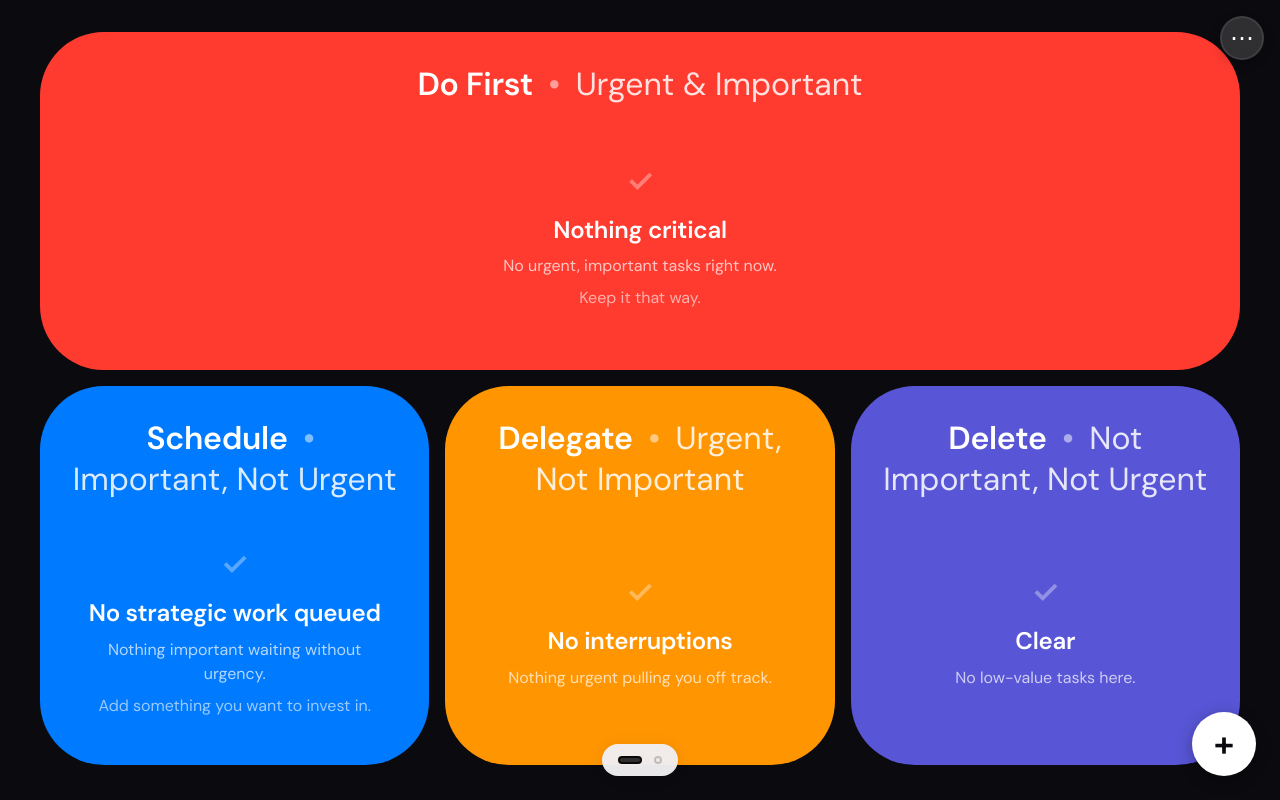
Task Creation Overlay Integration › should default frequency to medium for Q2 tasks
Step 1. Click the button named "add new task" → click(1224, 744), box x1=1192 y1=712 x2=1256 y2=776
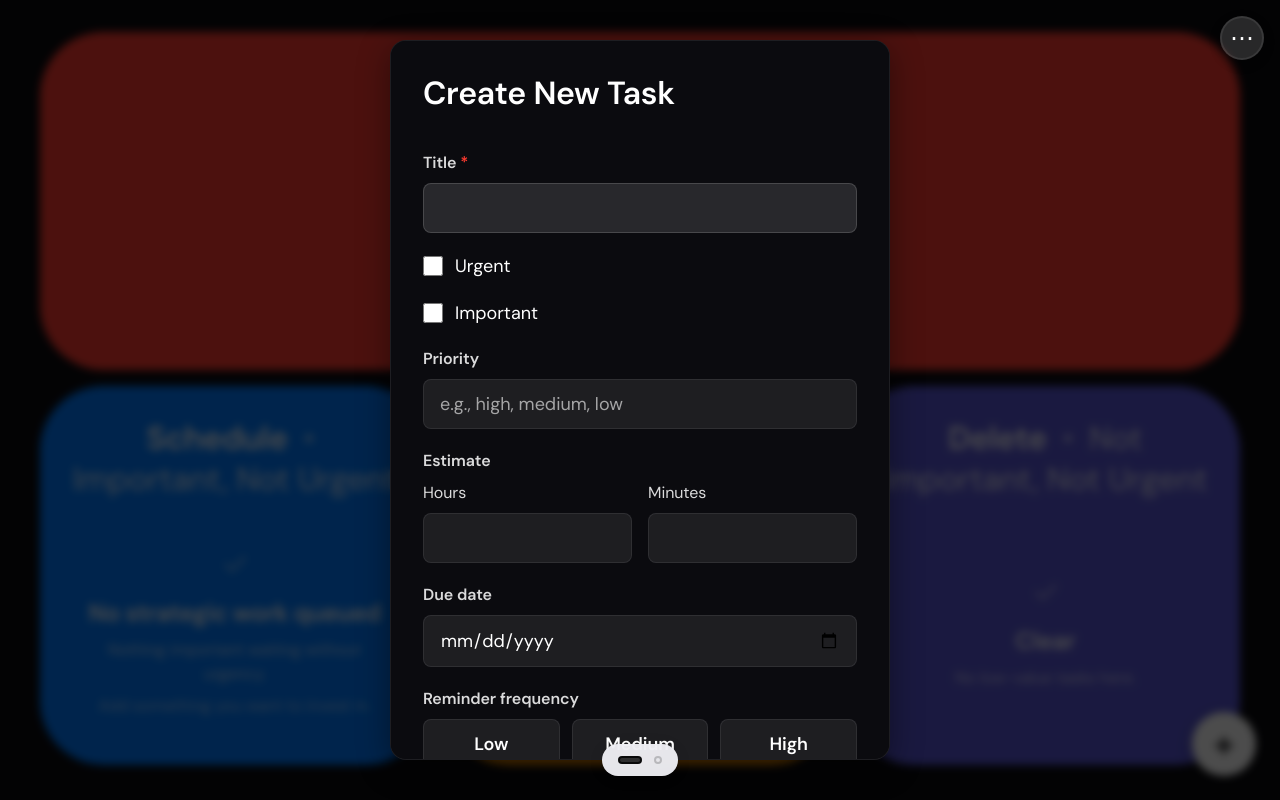
expect the heading "Create New Task" is shown: met, box x1=423 y1=72 x2=675 y2=114
Step 2. Type "Q2 Task" into the field labelled "Title *" → (640, 208), box x1=423 y1=183 x2=857 y2=233
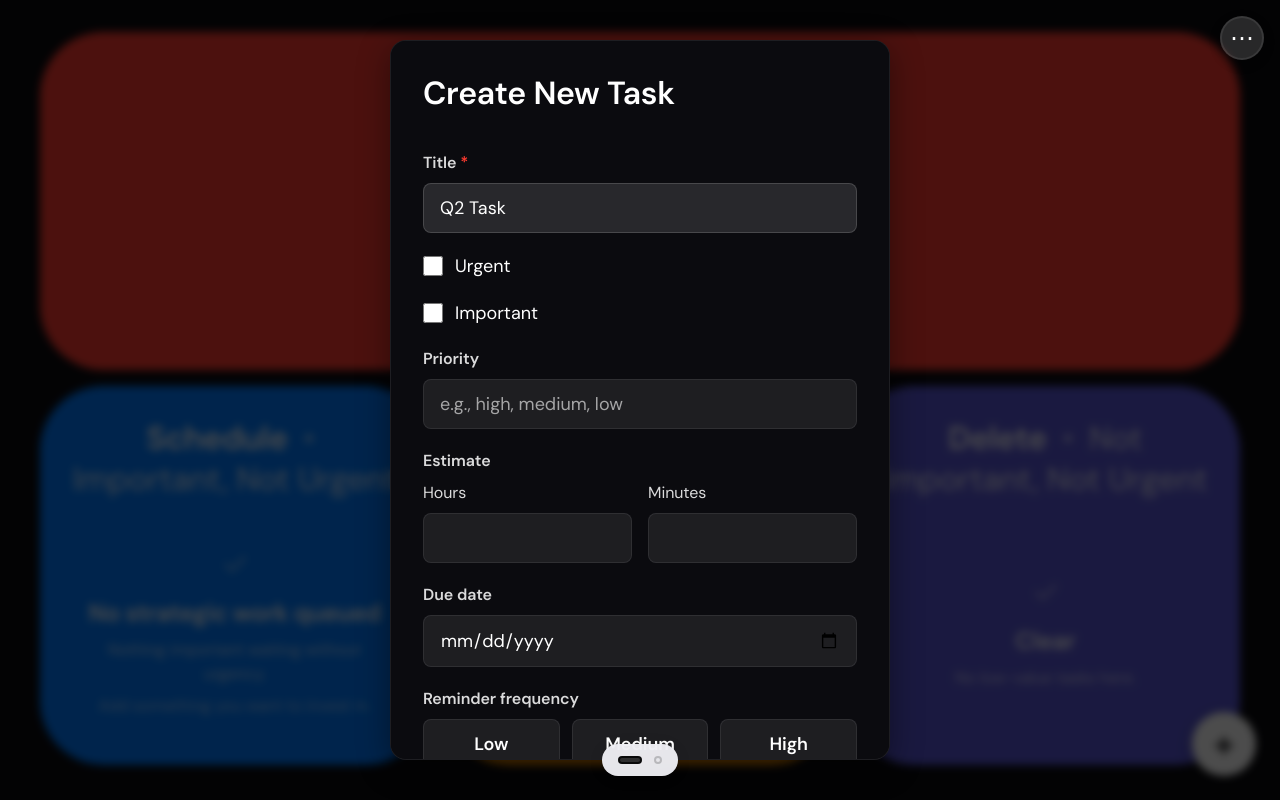
Step 3. Click the checkbox labelled "Important" → click(433, 313), box x1=423 y1=303 x2=443 y2=323
(page scrolled)
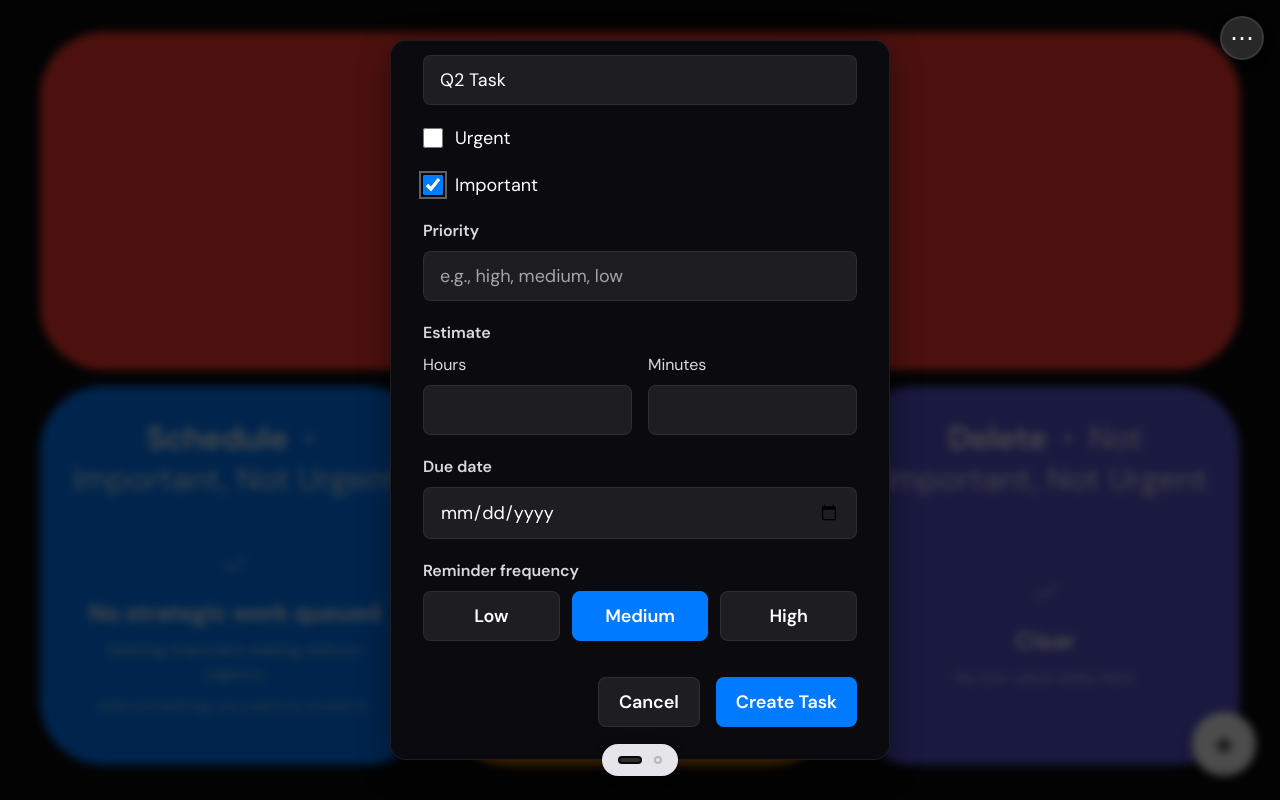
expect the button "Medium" has class "task-creation-overlay__frequency-button--active": met, box x1=572 y1=591 x2=708 y2=641
Step 4. Click the button "Create Task" → click(786, 702), box x1=716 y1=677 x2=857 y2=727
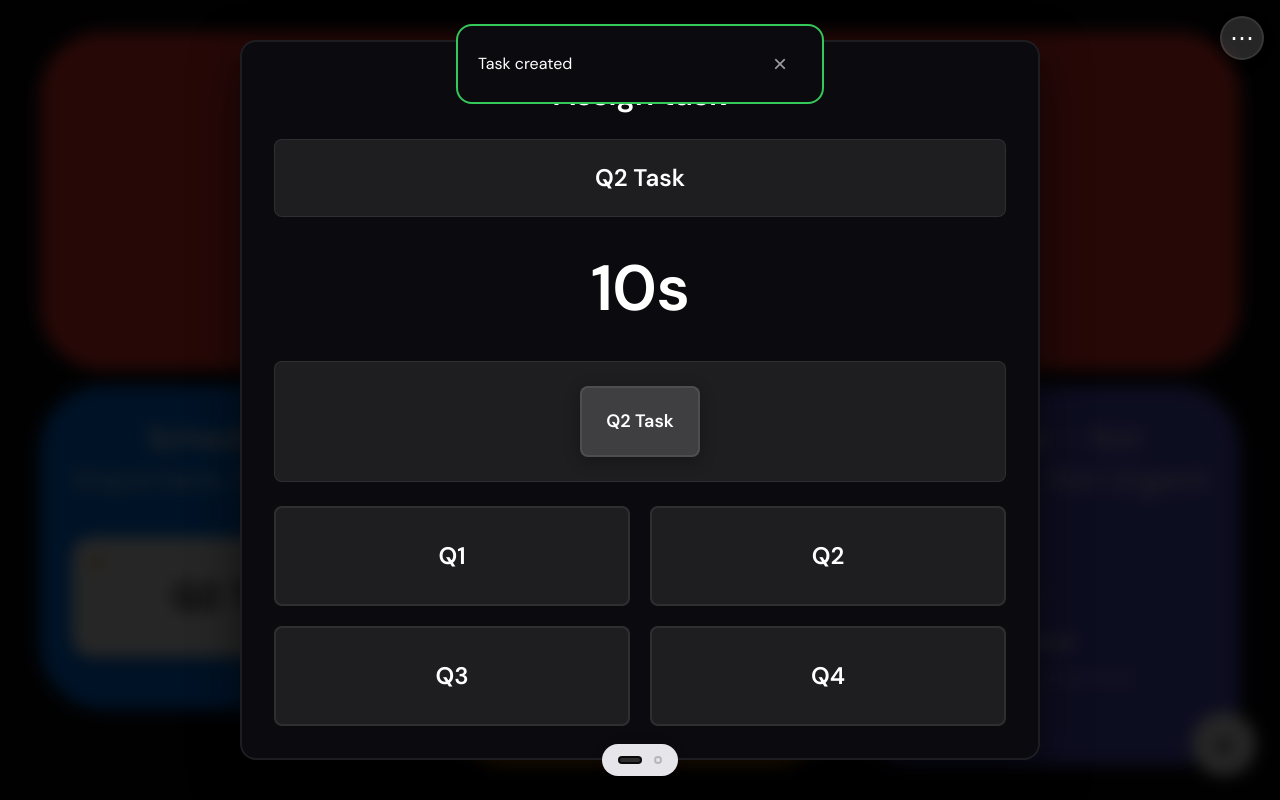
expect the heading "Create New Task" is not shown: met
expect the element with test id "quadrant-Q2" shows "Q2 Task": met, box x1=172 y1=574 x2=309 y2=618
